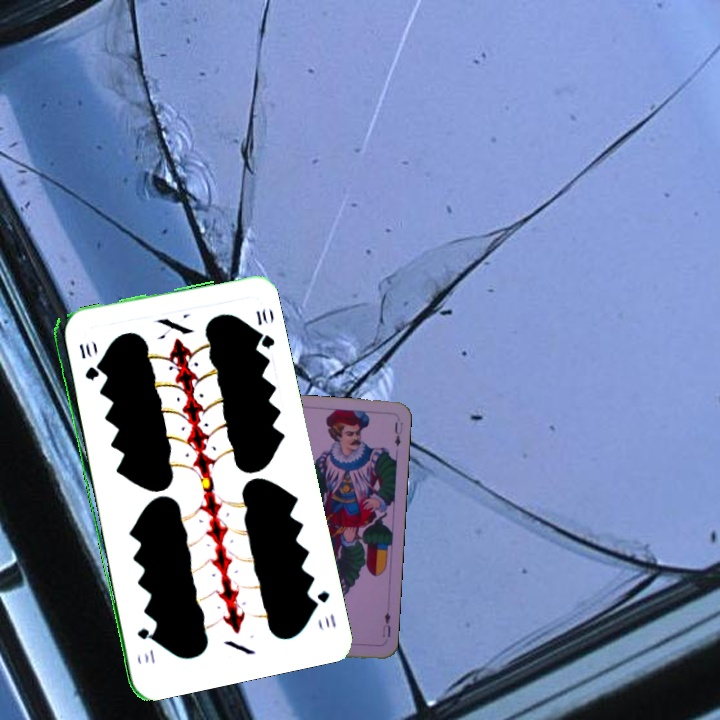EU: (380, 608, 393, 640)
G10: (307, 587, 339, 630), (75, 340, 98, 384)
